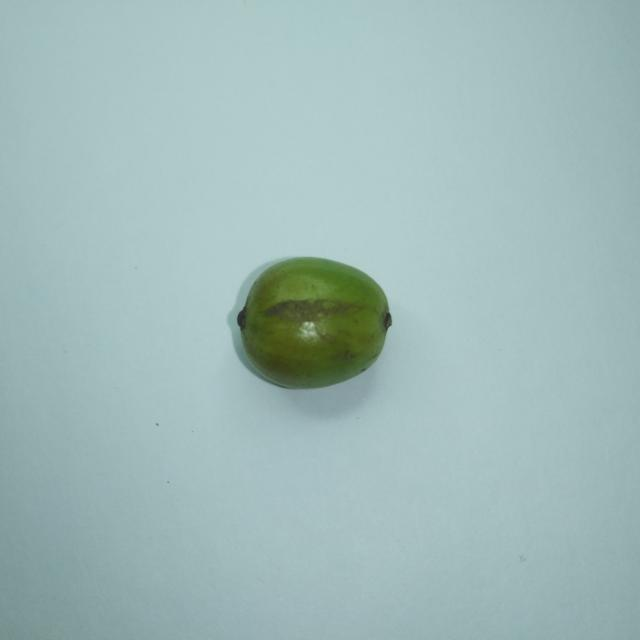Sano: (229, 257, 391, 388)
